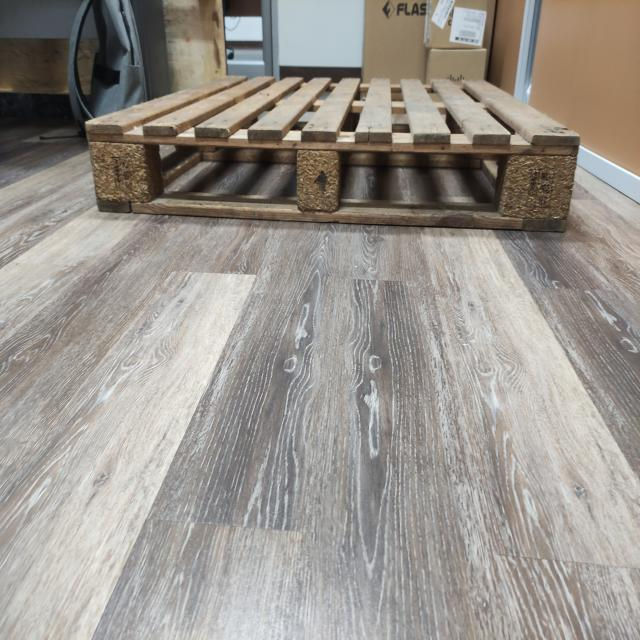block: (85, 127, 156, 212), (500, 152, 580, 227), (296, 149, 346, 214)
front: (84, 117, 582, 233)
